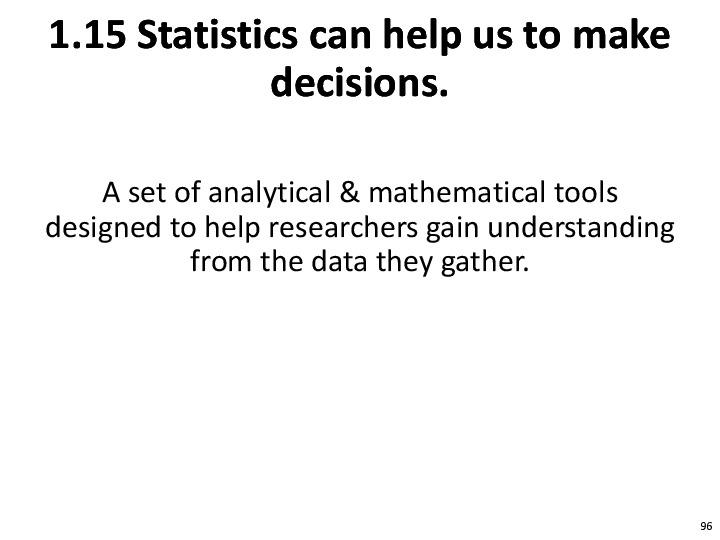paragraph: (25, 151, 691, 321)
title: (32, 12, 697, 119)
